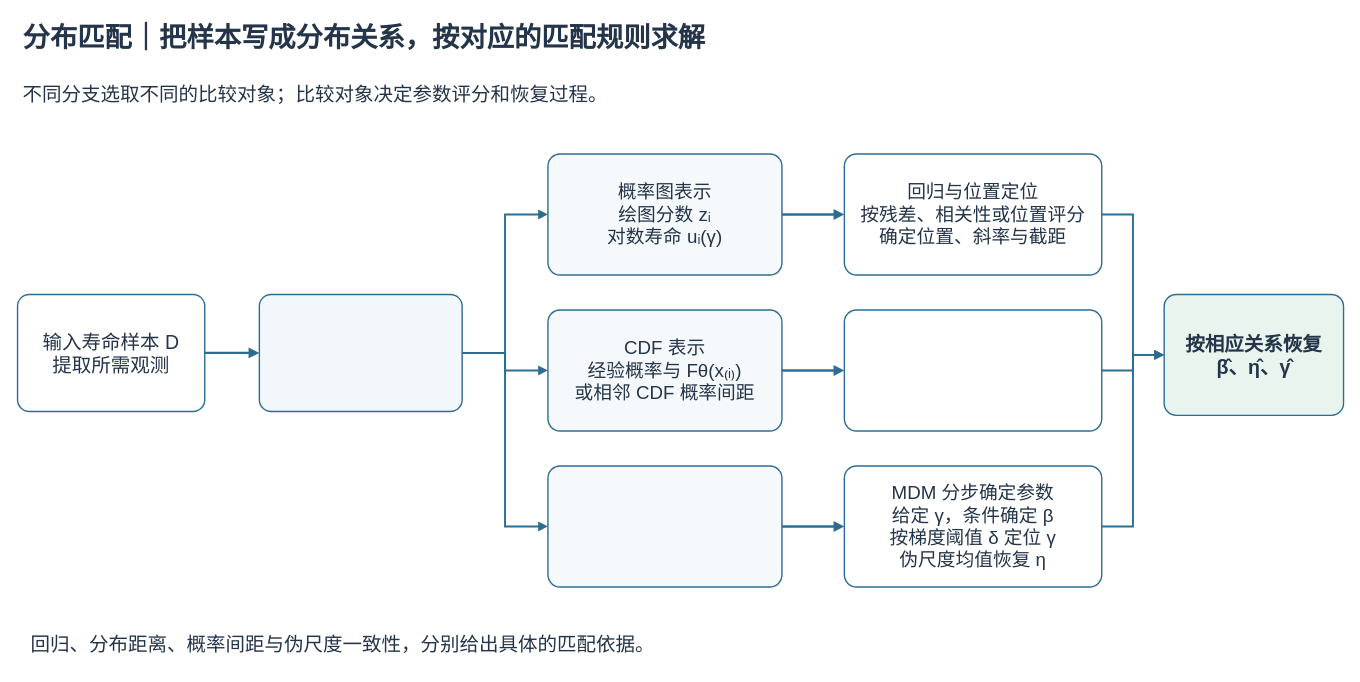
Some shapes in this 1360 by 682 pixel diagram are drawn without their labels. Each missing label, with the box of its shape:
伪尺度表示 各观测反推 ηᵢ(β,γ) 计算这些尺度的离散程度: (547, 465, 782, 587)
分布差异或间距评分 最小化相应分布差异 或最大化间距目标: (843, 309, 1102, 431)
选取这类方法使用的 样本表示与理论关系: (258, 293, 462, 412)
